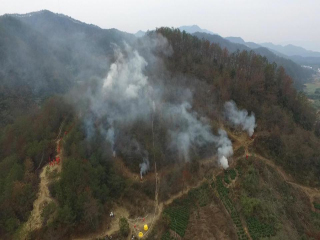smoke: (78, 32, 257, 175)
